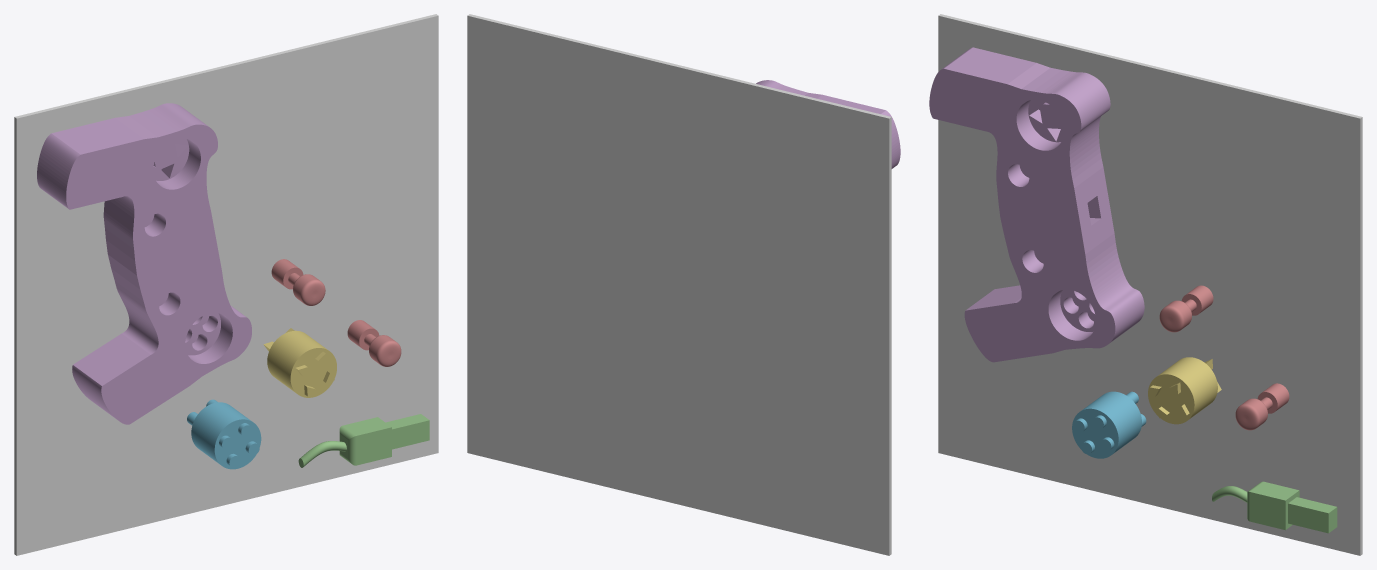
File: pickup_layout.glb
The picture shows the model from 3 angles, left to right: view 1: azimuth 30°, elevation 25°; view 2: azimuth 150°, elevation 25°; view 3: azimuth 330°, elevation 25°; orthographic projection.
Parts seen in each view (by area): view 1: world, 3.obj, 4.obj, 2.obj, 1.obj, 5.obj, 0.obj; view 2: world, 3.obj; view 3: world, 3.obj, 4.obj, 2.obj, 1.obj, 0.obj, 5.obj.
Boxes of the visible parts, x1,y1,x2,y2 form: world: [14, 14, 438, 555]; 3.obj: [37, 103, 251, 424]; 4.obj: [298, 414, 429, 467]; 2.obj: [187, 399, 261, 469]; 1.obj: [263, 328, 336, 397]; 5.obj: [271, 259, 325, 305]; 0.obj: [347, 320, 401, 366]; world: [467, 14, 891, 555]; 3.obj: [756, 80, 900, 168]; world: [938, 14, 1362, 555]; 3.obj: [929, 47, 1144, 362]; 4.obj: [1212, 481, 1337, 533]; 2.obj: [1072, 391, 1146, 458]; 1.obj: [1148, 357, 1221, 424]; 0.obj: [1235, 383, 1289, 430]; 5.obj: [1159, 285, 1213, 332].
Size of the model in its own units: 20.84 by 20.65 by 3.2.
